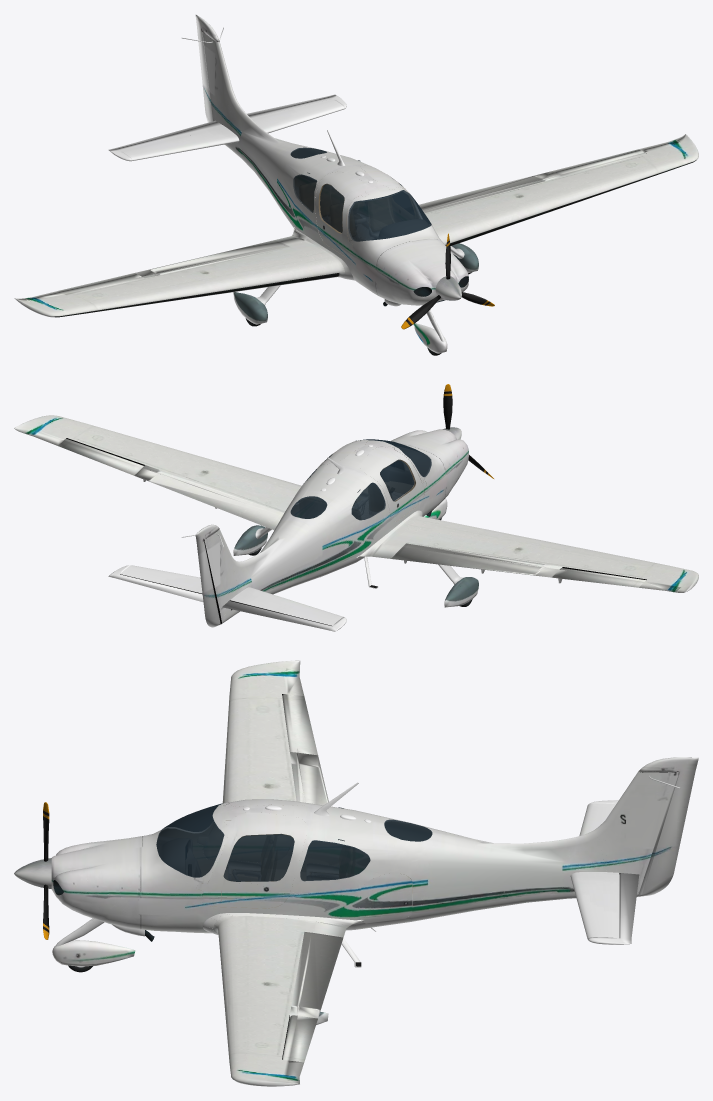
The picture shows the model from 3 angles, top to bottom: view 1: azimuth 30°, elevation 25°; view 2: azimuth 150°, elevation 25°; view 3: azimuth 270°, elevation 25°; orthographic projection. The views are drawn at different scales.
Visible parts, largest first — view 1: body, wingR, wingL, glass, tailH, elevator, rudder, prop, tailV, flapR, flapL, aileronL (+2 smaller); view 2: body, wingR, wingL, glass, tailH, elevator, flapR, rudder, flapL, aileronL, aileronR, tailV (+5 smaller); view 3: body, wingL, wingR, glass, rudder, tailH, tailV, flapL, aileronR, elevator, prop, aileronL (+3 smaller).
Boxes of the visible parts, left/top/right/bottom form: body: left=182, top=27, right=468, bottom=321; wingR: left=21, top=232, right=351, bottom=317; wingL: left=423, top=138, right=698, bottom=246; glass: left=290, top=147, right=444, bottom=302; tailH: left=115, top=99, right=346, bottom=161; elevator: left=108, top=94, right=341, bottom=155; rudder: left=195, top=15, right=219, bottom=122; prop: left=401, top=233, right=494, bottom=329; tailV: left=213, top=40, right=253, bottom=125; flapR: left=151, top=234, right=305, bottom=272; flapL: left=419, top=176, right=540, bottom=211; aileronL: left=536, top=134, right=689, bottom=178; body: left=181, top=429, right=468, bottom=623; wingR: left=370, top=488, right=698, bottom=588; wingL: left=21, top=415, right=301, bottom=515; glass: left=290, top=439, right=431, bottom=520; tailH: left=116, top=565, right=346, bottom=626; elevator: left=108, top=570, right=342, bottom=631; flapR: left=369, top=542, right=540, bottom=575; rudder: left=195, top=524, right=225, bottom=627; flapL: left=151, top=474, right=282, bottom=529; aileronL: left=14, top=424, right=155, bottom=480; aileronR: left=536, top=567, right=690, bottom=592; tailV: left=218, top=529, right=254, bottom=606; body: left=51, top=778, right=679, bottom=967; wingL: left=197, top=882, right=347, bottom=1086; wingR: left=222, top=661, right=320, bottom=803; glass: left=156, top=803, right=432, bottom=881; rudder: left=637, top=757, right=698, bottom=896; tailH: left=568, top=800, right=612, bottom=944; tailV: left=550, top=771, right=646, bottom=873; flapL: left=299, top=921, right=348, bottom=1008; aileronR: left=285, top=660, right=320, bottom=765; elevator: left=612, top=800, right=641, bottom=944; prop: left=14, top=802, right=51, bottom=939; aileronL: left=285, top=1008, right=320, bottom=1085.
Bounding box in the file's own units: 11.59 × 2.73 × 7.92.
Materials: 15 (12 with a texture image).
